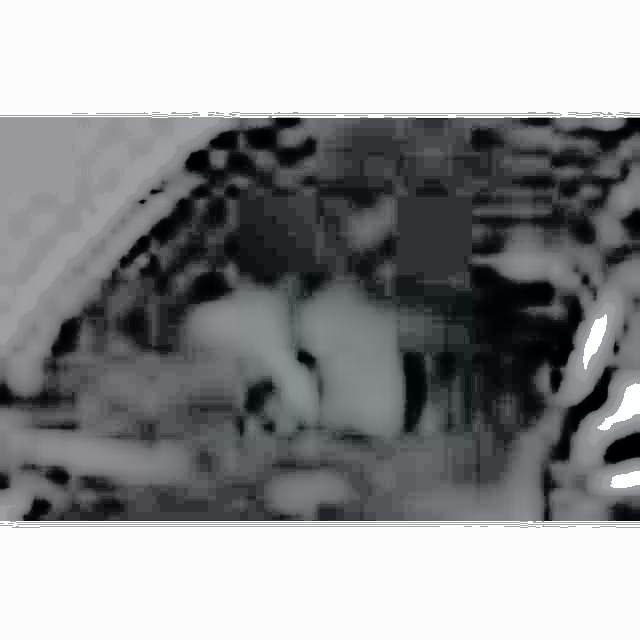pakai: (197, 207, 414, 472)
